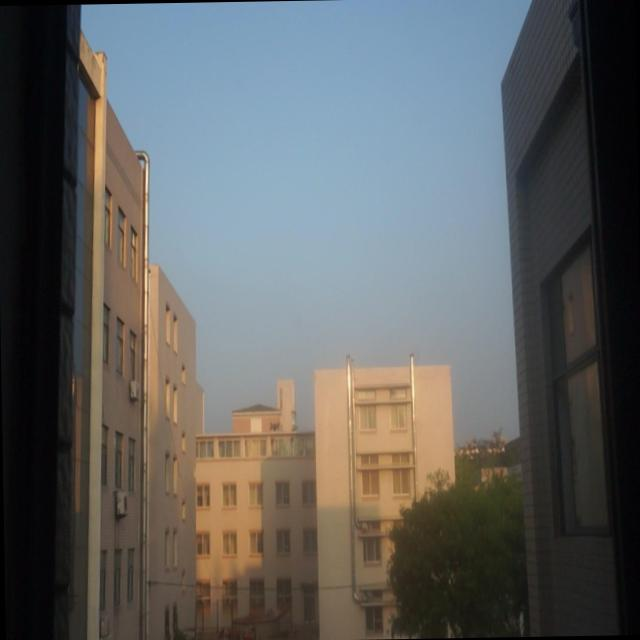drone: (267, 418, 283, 436)
